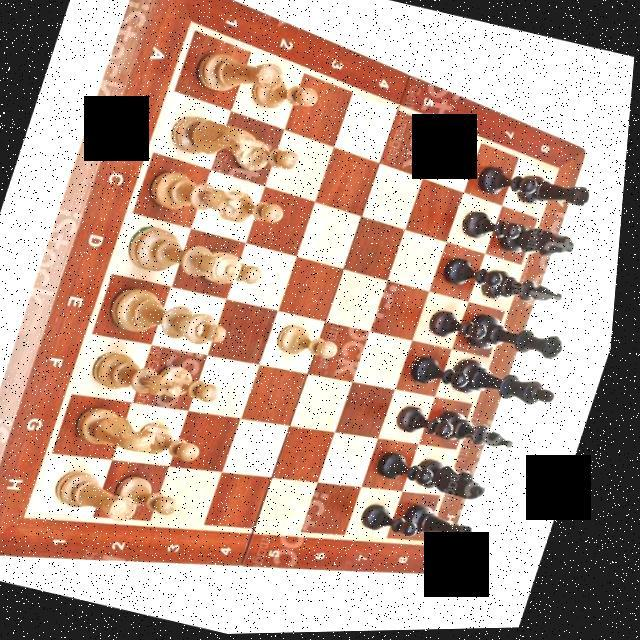chess-table-corners: (175, 13, 218, 42), (23, 506, 62, 536), (550, 151, 575, 179), (428, 540, 445, 554)
